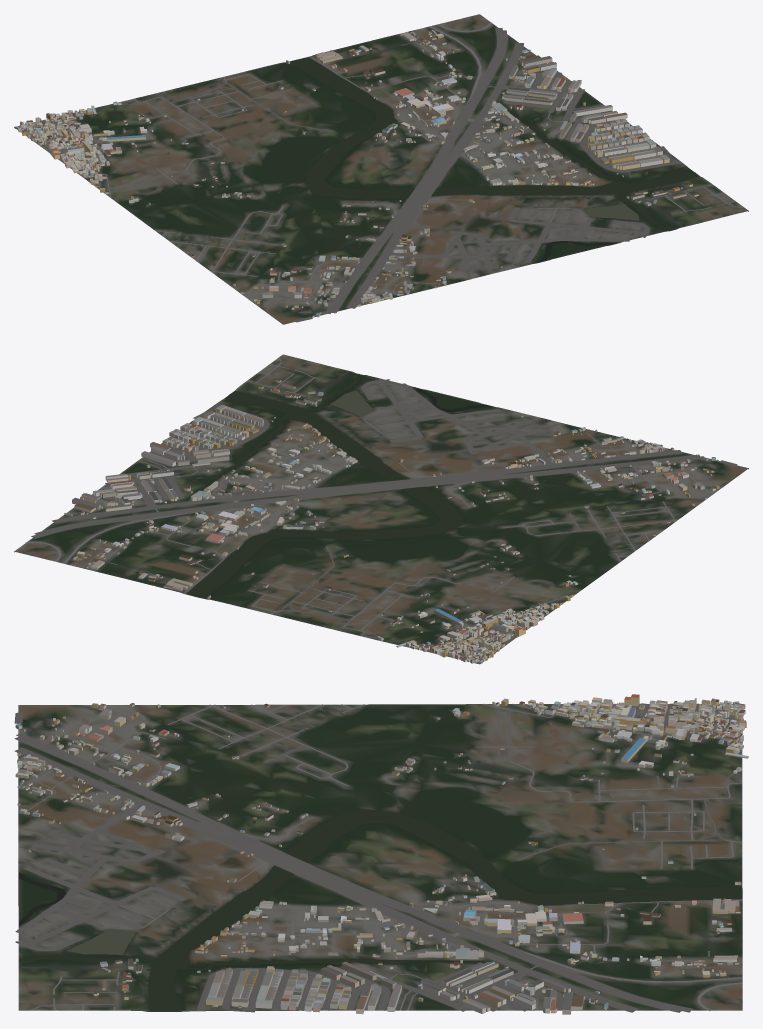
3 views of the same model, one above another, from view 1: azimuth 30°, elevation 25°; view 2: azimuth 150°, elevation 25°; view 3: azimuth 270°, elevation 25° (orthographic). The views are drawn at different scales.
Visible parts, largest first — view 1: ground, buildings, roads, water; view 2: ground, buildings, roads, water; view 3: ground, buildings, roads, water.
Part boxes in pixels (<box>): ground: <box>14,14,748,324</box>; buildings: <box>14,30,698,317</box>; roads: <box>19,22,744,322</box>; water: <box>290,57,699,262</box>; ground: <box>14,354,748,664</box>; buildings: <box>64,379,719,663</box>; roads: <box>25,357,737,662</box>; water: <box>185,374,493,598</box>; ground: <box>18,704,742,1011</box>; buildings: <box>15,694,748,1014</box>; roads: <box>14,703,742,1012</box>; water: <box>19,809,742,1011</box>.
Bounding box in the file's own units: 1426 × 32.63 × 1422.
